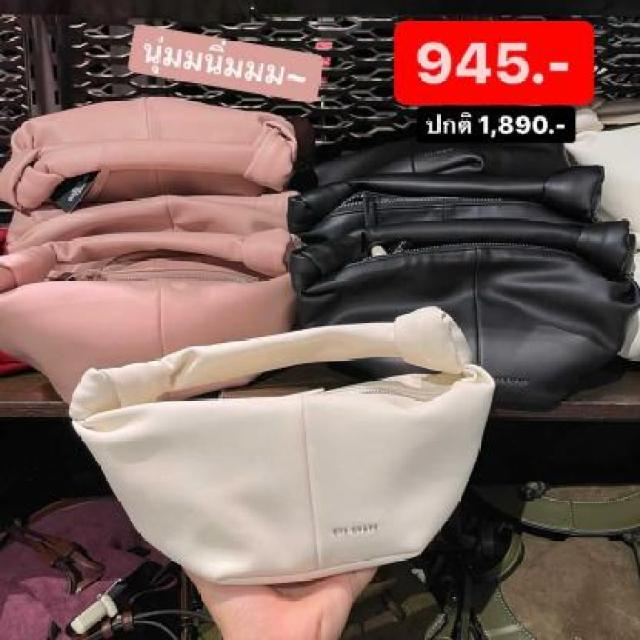Bag: (45, 274, 530, 600)
